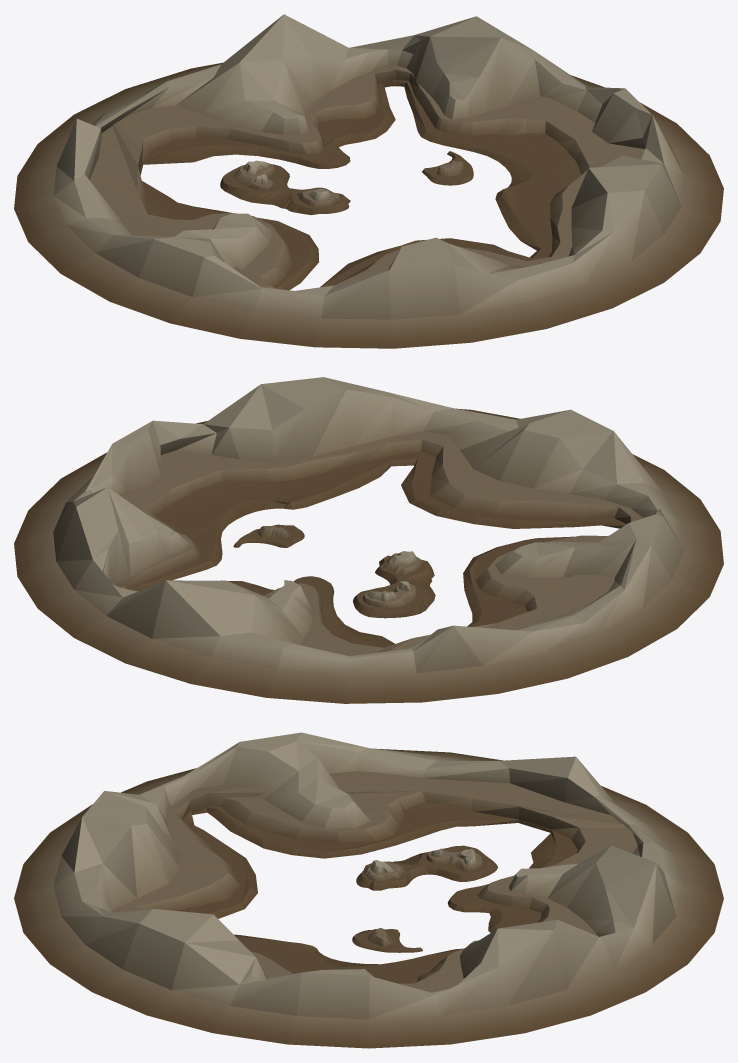
Rendered from ground_mdl.FBX.
3 views of the same model, one above another, from view 1: azimuth 30°, elevation 25°; view 2: azimuth 150°, elevation 25°; view 3: azimuth 270°, elevation 25° (orthographic).
Visible parts, largest first — view 1: ground_mdl; view 2: ground_mdl; view 3: ground_mdl.
Boxes of the visible parts, bbox=[...] form: ground_mdl: bbox=[14, 14, 723, 348]; ground_mdl: bbox=[14, 377, 723, 703]; ground_mdl: bbox=[14, 732, 723, 1048].
Bounding box in the file's own units: 2720 × 284 × 2720.
1 material, 1 textured.
